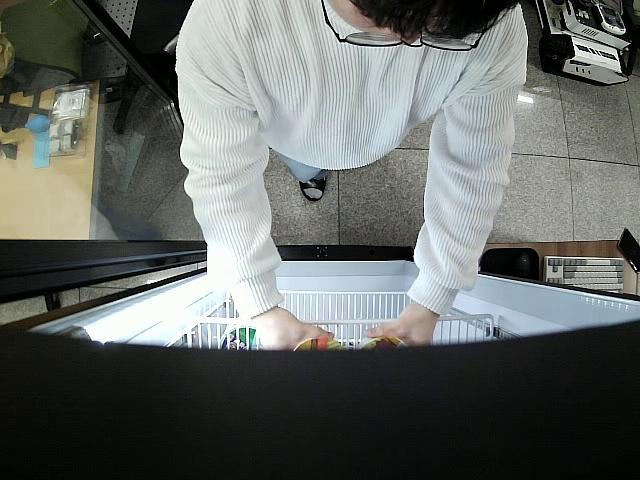00_hand: (253, 308, 336, 359), (362, 306, 440, 350)
04_chapagetti_S: (289, 335, 345, 354), (357, 336, 412, 352)
